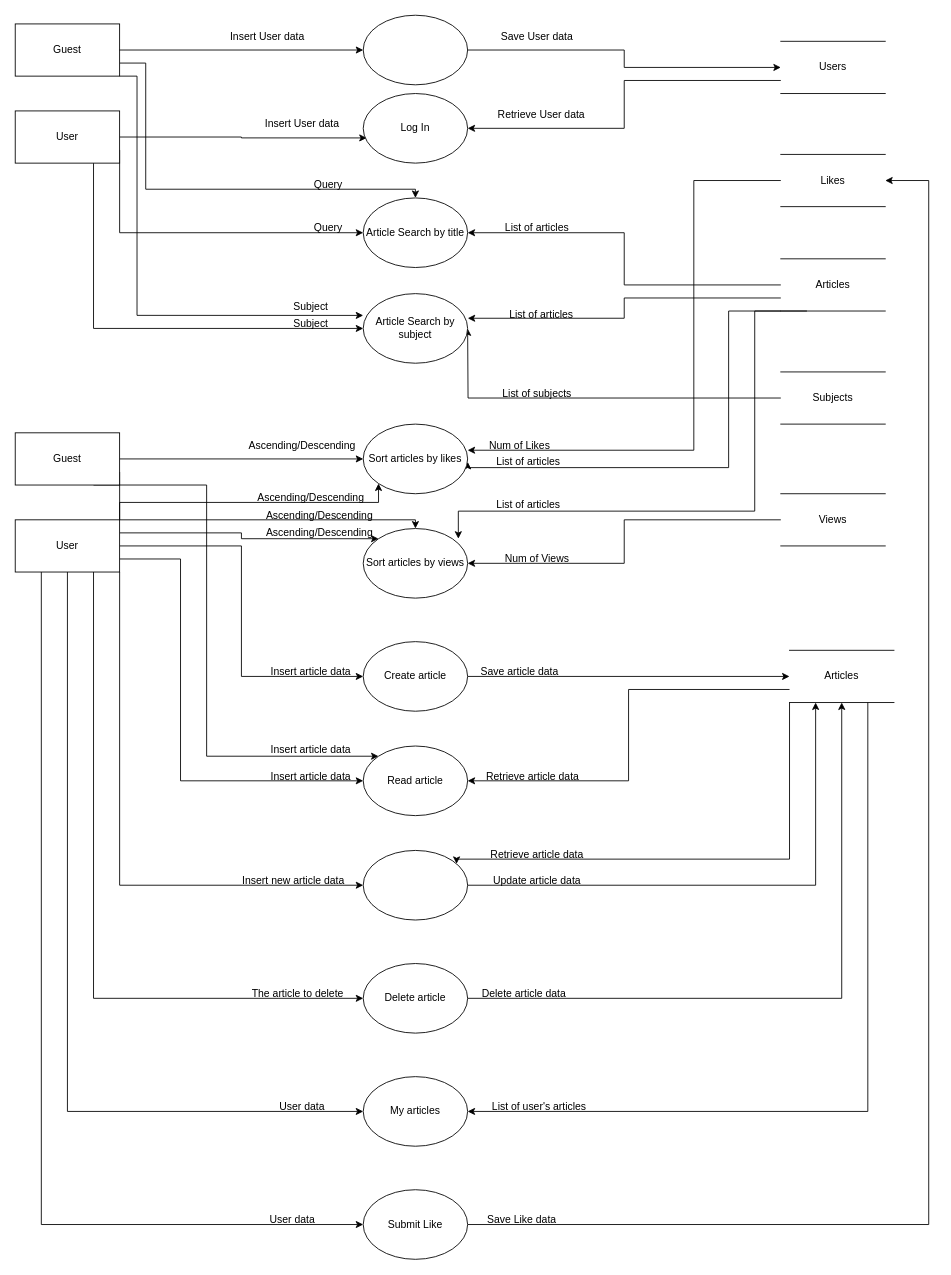
This 951x1275 diagram has some shape labels left out. Each missing label, with the box of its shape:
Sign Up: (362, 14, 468, 85)
Update article: (362, 850, 468, 920)
